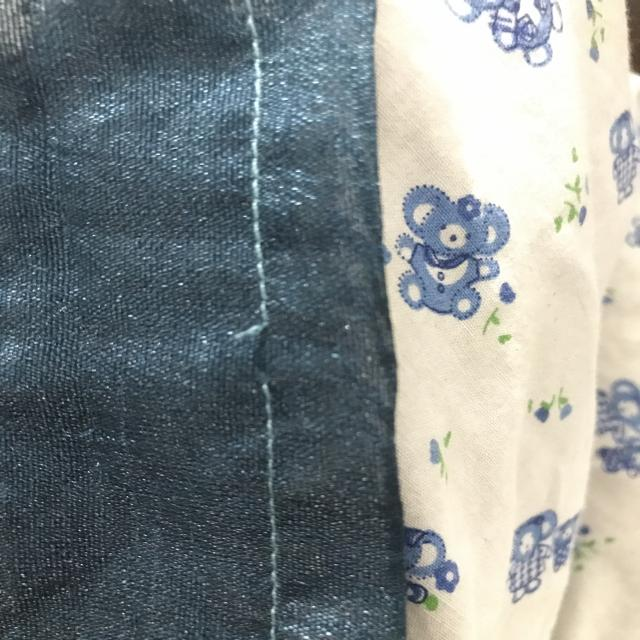broken: (222, 305, 306, 409)
good: (251, 442, 310, 562)
